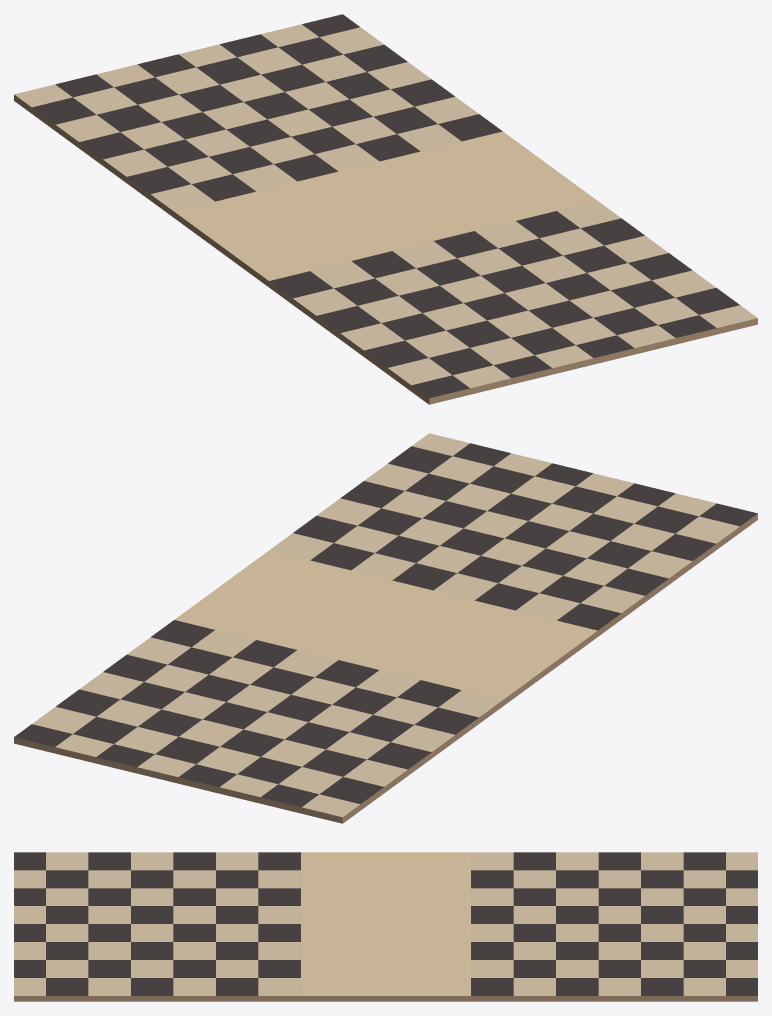
The model's file is PZ_Floor64.glb.
3 views of the same model, one above another, from view 1: azimuth 30°, elevation 25°; view 2: azimuth 150°, elevation 25°; view 3: azimuth 270°, elevation 25° (orthographic). The views are drawn at different scales.
Visible parts, largest first — view 1: PZ_Floor64; view 2: PZ_Floor64; view 3: PZ_Floor64.
Boxes of the visible parts, x1,y1,x2,y2 form: PZ_Floor64: (14,14,757,404); PZ_Floor64: (14,433,757,823); PZ_Floor64: (14,852,757,1001).
Size of the model in its own units: 64 by 1.2 by 140.
Materials: 1 (1 with a texture image).
